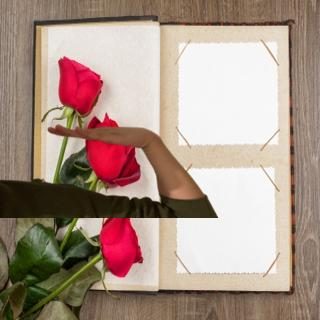WAIT: (44, 116, 157, 151)
